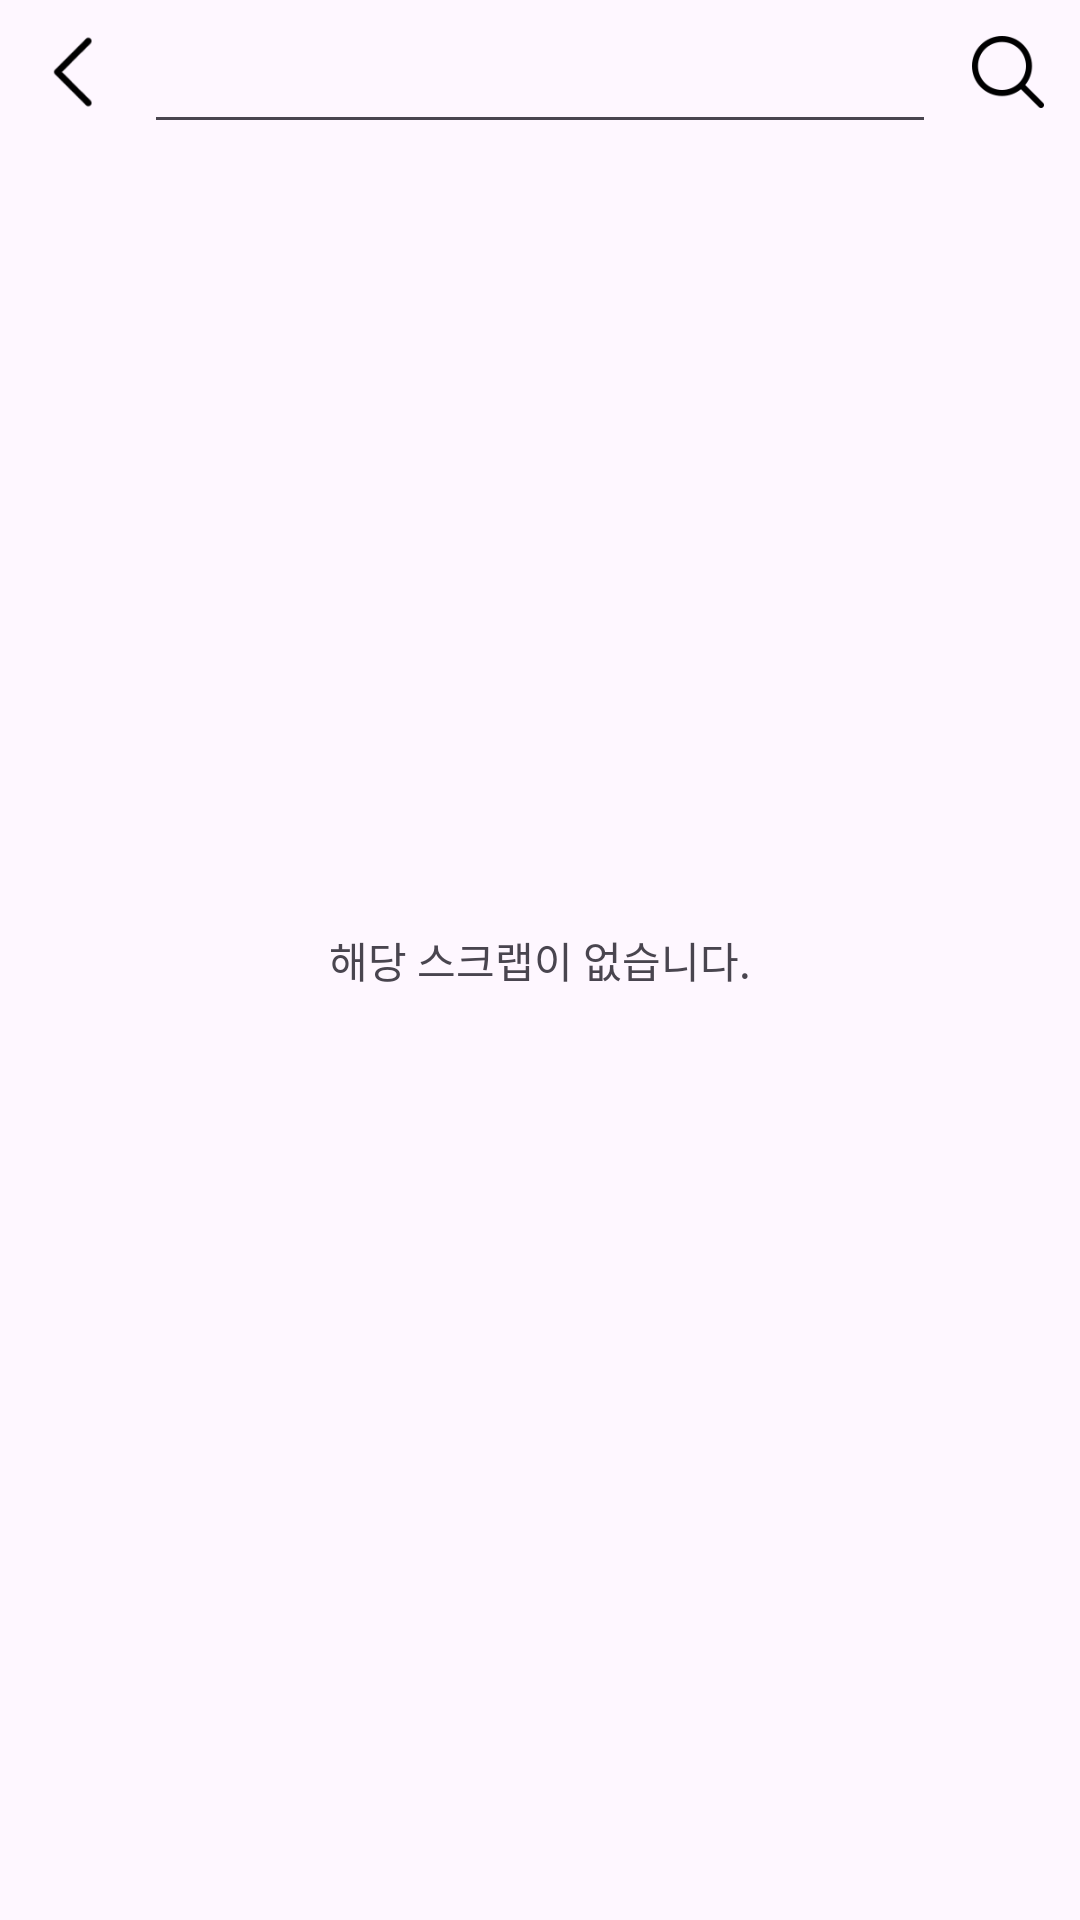

Where icons sit on this 1080w x 1920h app screen, as [x1=x1, y1=y1, x2=x2, y2=y2]:
prev: [x1=53, y1=37, x2=92, y2=107]
search: [x1=972, y1=36, x2=1044, y2=108]
